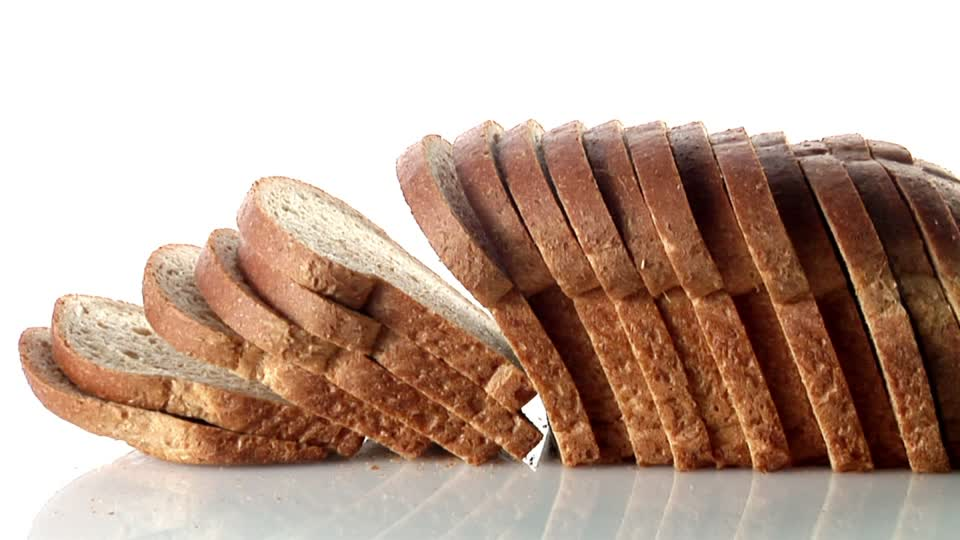slice of bread: (438, 145, 945, 464)
